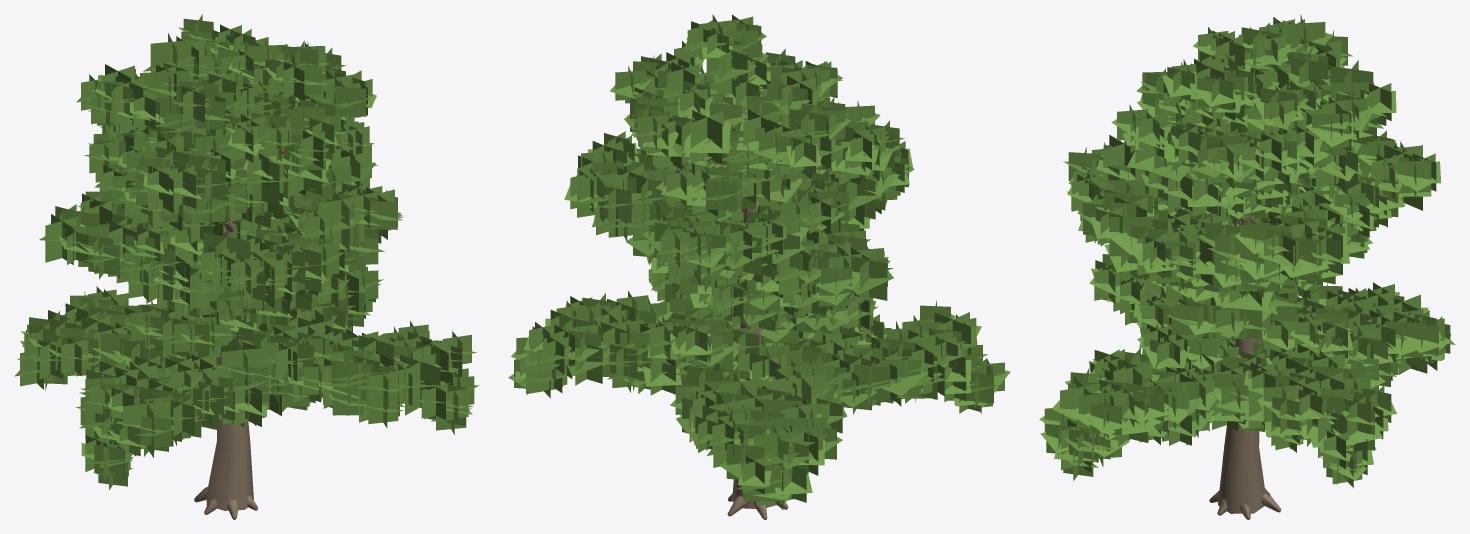
File: pommier_5_jeu.glb
The picture shows the model from 3 angles, left to right: view 1: azimuth 30°, elevation 25°; view 2: azimuth 150°, elevation 25°; view 3: azimuth 270°, elevation 25°; orthographic projection. The views are drawn at different scales.
Visible parts, largest first — view 1: Pommier_T5_Leger; view 2: Pommier_T5_Leger; view 3: Pommier_T5_Leger.
Boxes of the visible parts, <box> form: Pommier_T5_Leger: <box>14,14,479,519</box>; Pommier_T5_Leger: <box>508,14,1010,519</box>; Pommier_T5_Leger: <box>1039,14,1455,519</box>.
Bounding box in the file's own units: 8.69 × 9.74 × 7.87.
